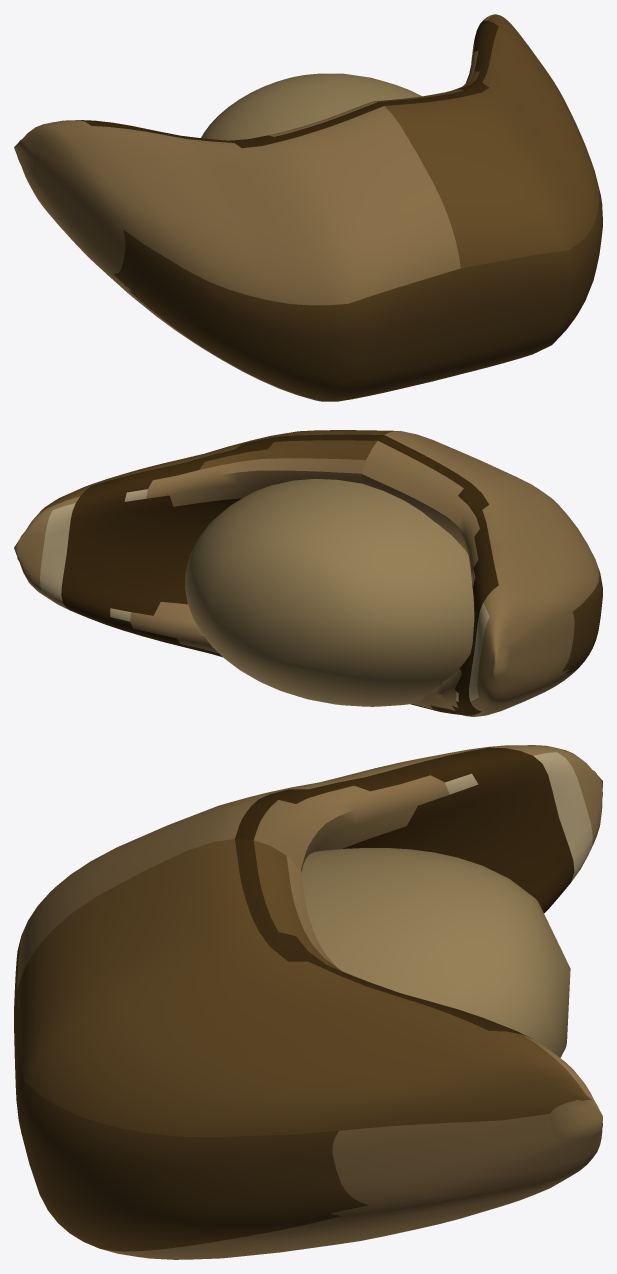
The model's file is bronze_yuanbao.glb.
3 views of the same model, one above another, from view 1: azimuth 30°, elevation 25°; view 2: azimuth 150°, elevation 25°; view 3: azimuth 270°, elevation 25° (orthographic). The views are drawn at different scales.
Parts seen in each view (by area): view 1: body, dome; view 2: body, dome; view 3: body, dome.
Part boxes in pixels (x1,y1,x2,y2): body: (14,14,602,401); dome: (201,73,421,140); body: (14,430,602,716); dome: (185,478,474,706); body: (14,745,602,1259); dome: (301,848,570,1057).
Bounding box in the file's own units: 21.44 × 10.53 × 15.92.
